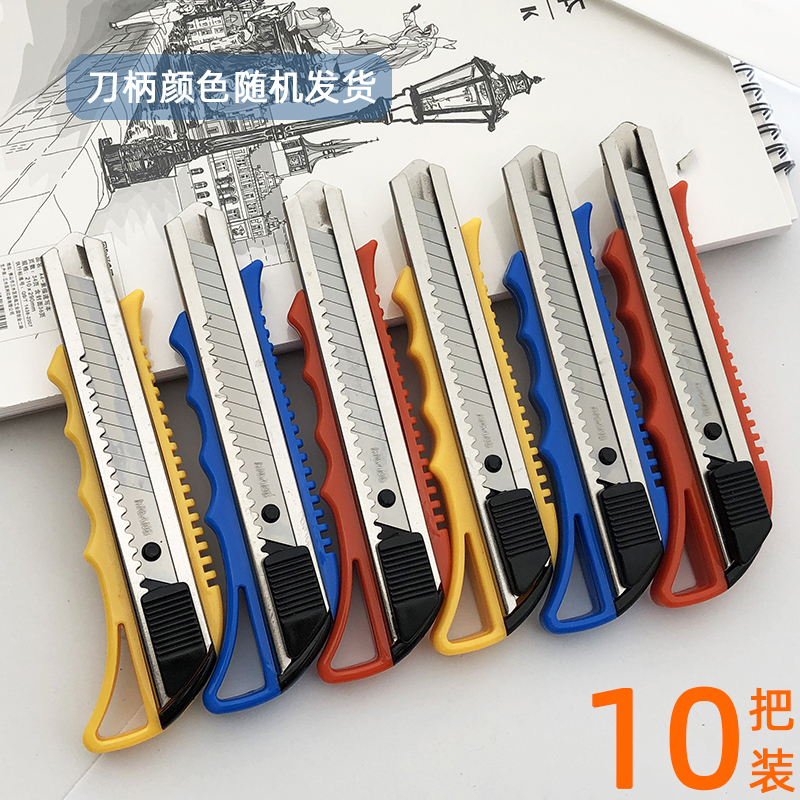cutter: (35, 231, 230, 753), (162, 200, 340, 711), (277, 179, 454, 686), (597, 121, 774, 604), (390, 159, 559, 657), (501, 146, 672, 632)
